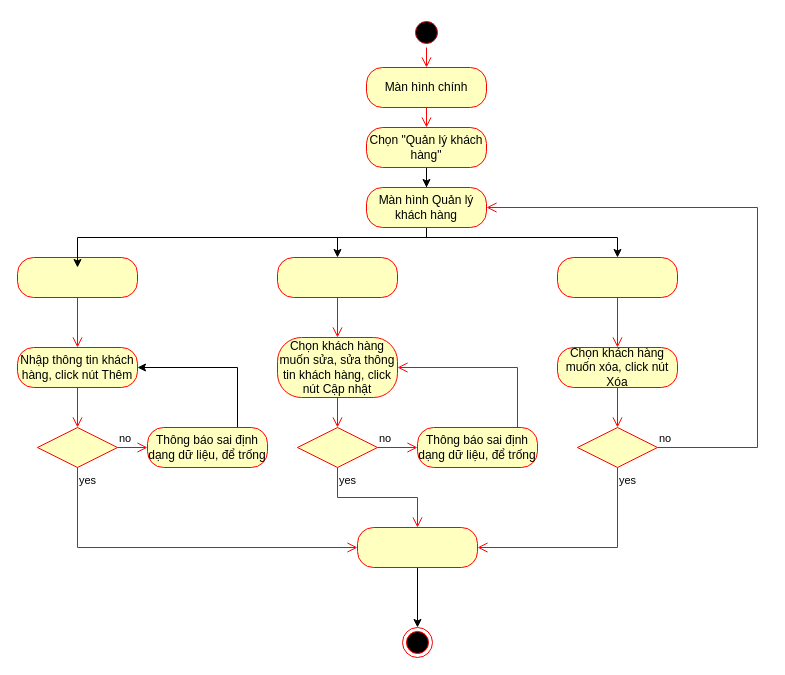
The diagram is 785 pixels wide and 675 high, and some of its shapes have lost their labels. Each missing label, with the box of its shape:
Cập nhật lại bảng danh sách khách hàng: (356, 526, 478, 568)
Sửa thông tin khách hàng: (276, 256, 398, 298)
Thêm khách hàng: (16, 256, 138, 298)
Xóa khách hàng: (556, 256, 678, 298)
